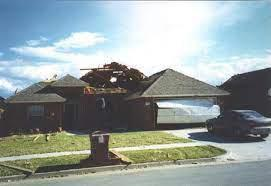minor: (10, 58, 222, 132)
